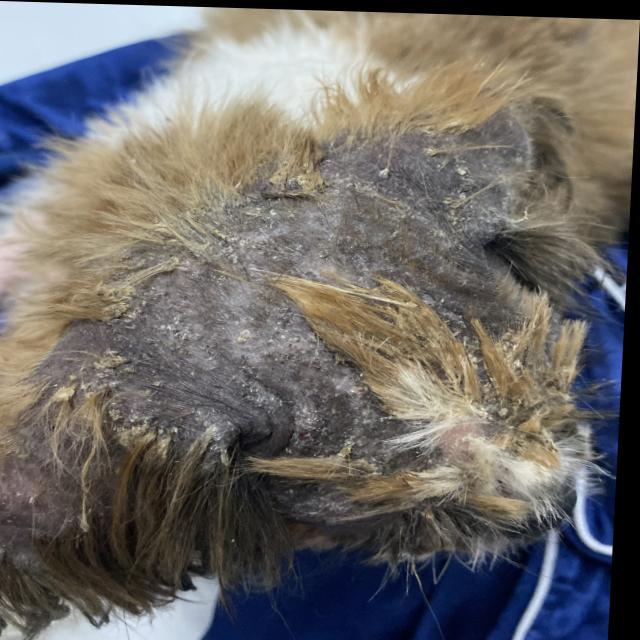demodicosis: (138, 95, 509, 414), (0, 314, 135, 572), (207, 415, 441, 537)
